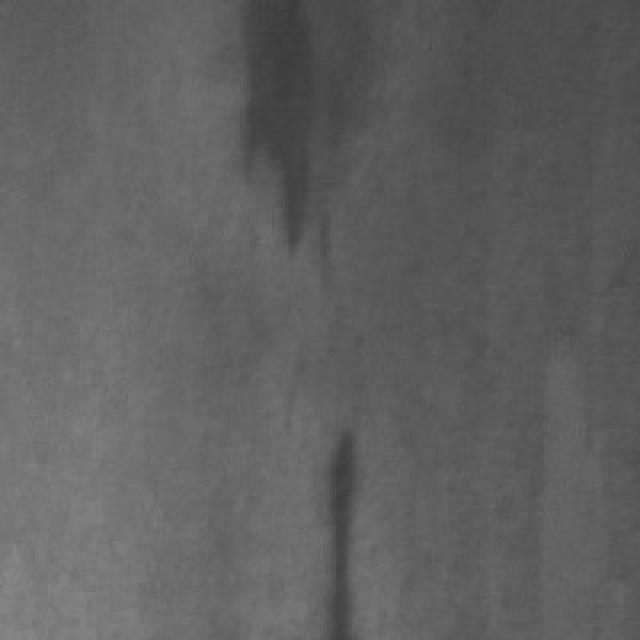inclusion: (211, 0, 333, 272), (307, 412, 371, 634)
